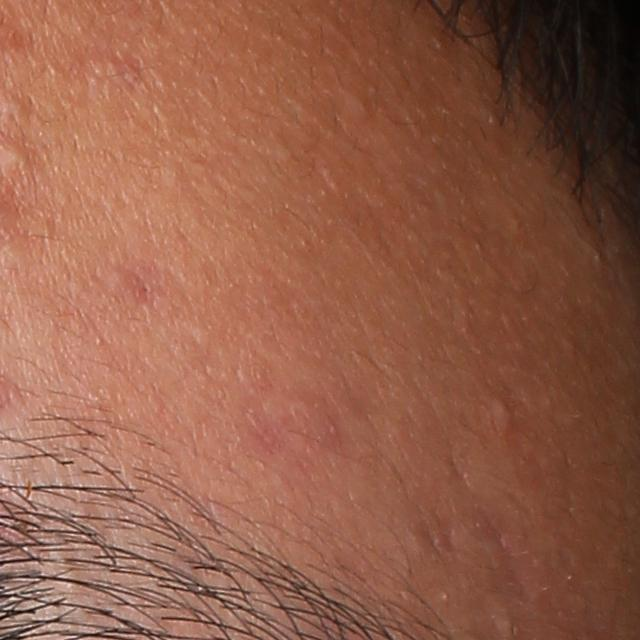comedo: (488, 391, 516, 434), (350, 98, 373, 118)
